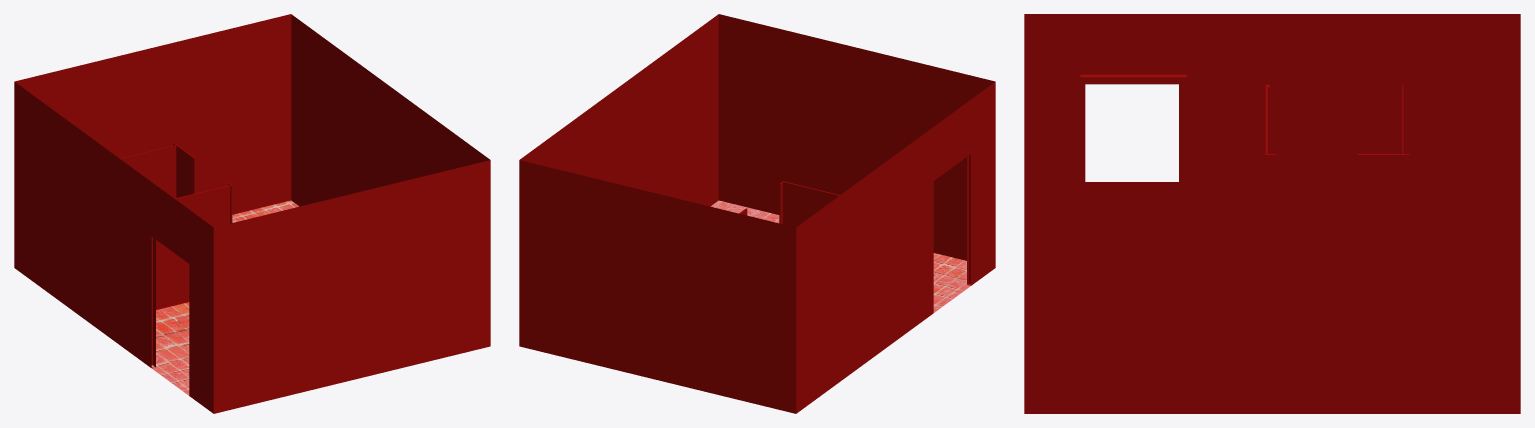
File: toilet room.fbx
3 renders of one model, left to right at view 1: azimuth 30°, elevation 25°; view 2: azimuth 150°, elevation 25°; view 3: azimuth 270°, elevation 25°, orthographic. The views are drawn at different scales.
Visible parts, largest first — view 1: 平面.006; view 2: 平面.006; view 3: 平面.006.
Boxes of the visible parts, x1=… form: 平面.006: x1=14, y1=14, x2=490, y2=413; 平面.006: x1=519, y1=14, x2=995, y2=413; 平面.006: x1=1024, y1=14, x2=1520, y2=413.
Bounding box in the file's own units: 704 × 453 × 878.
2 materials, 1 textured.
